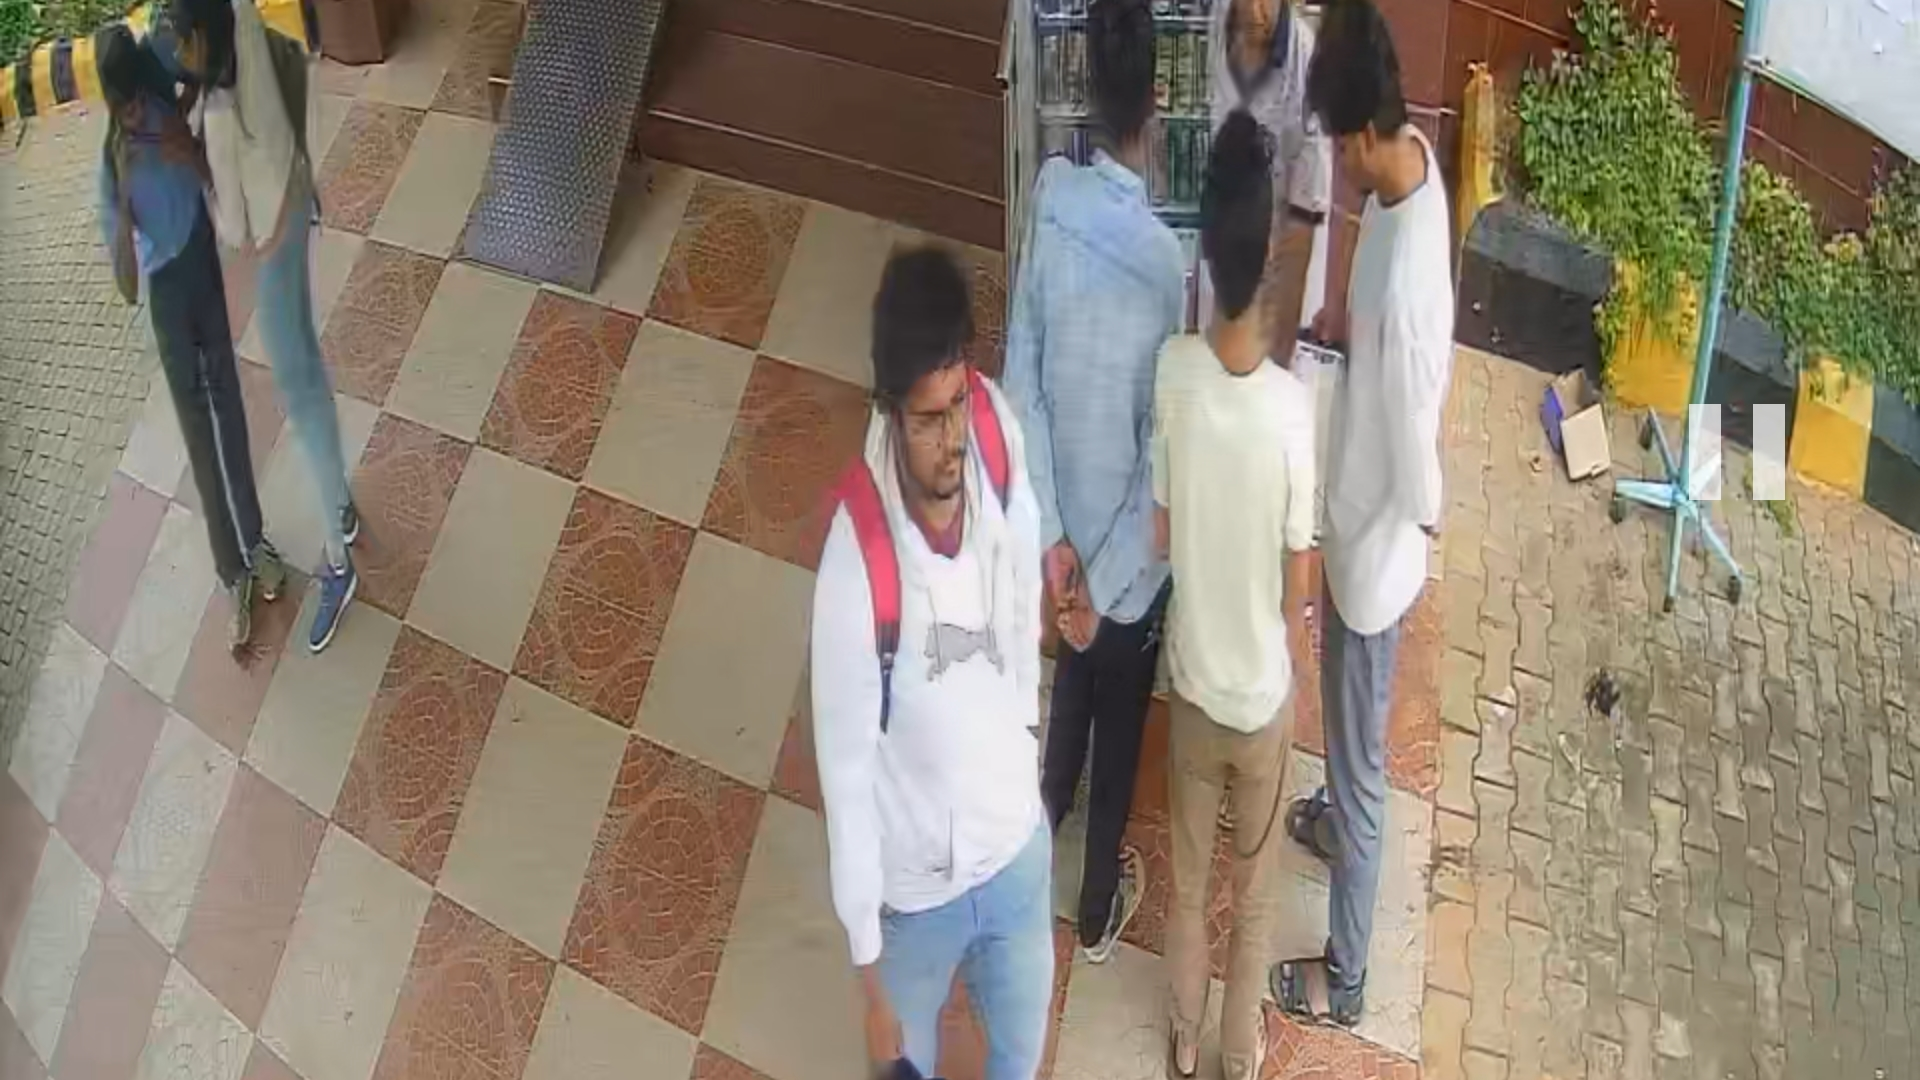intruder: (800, 241, 1081, 1080)
